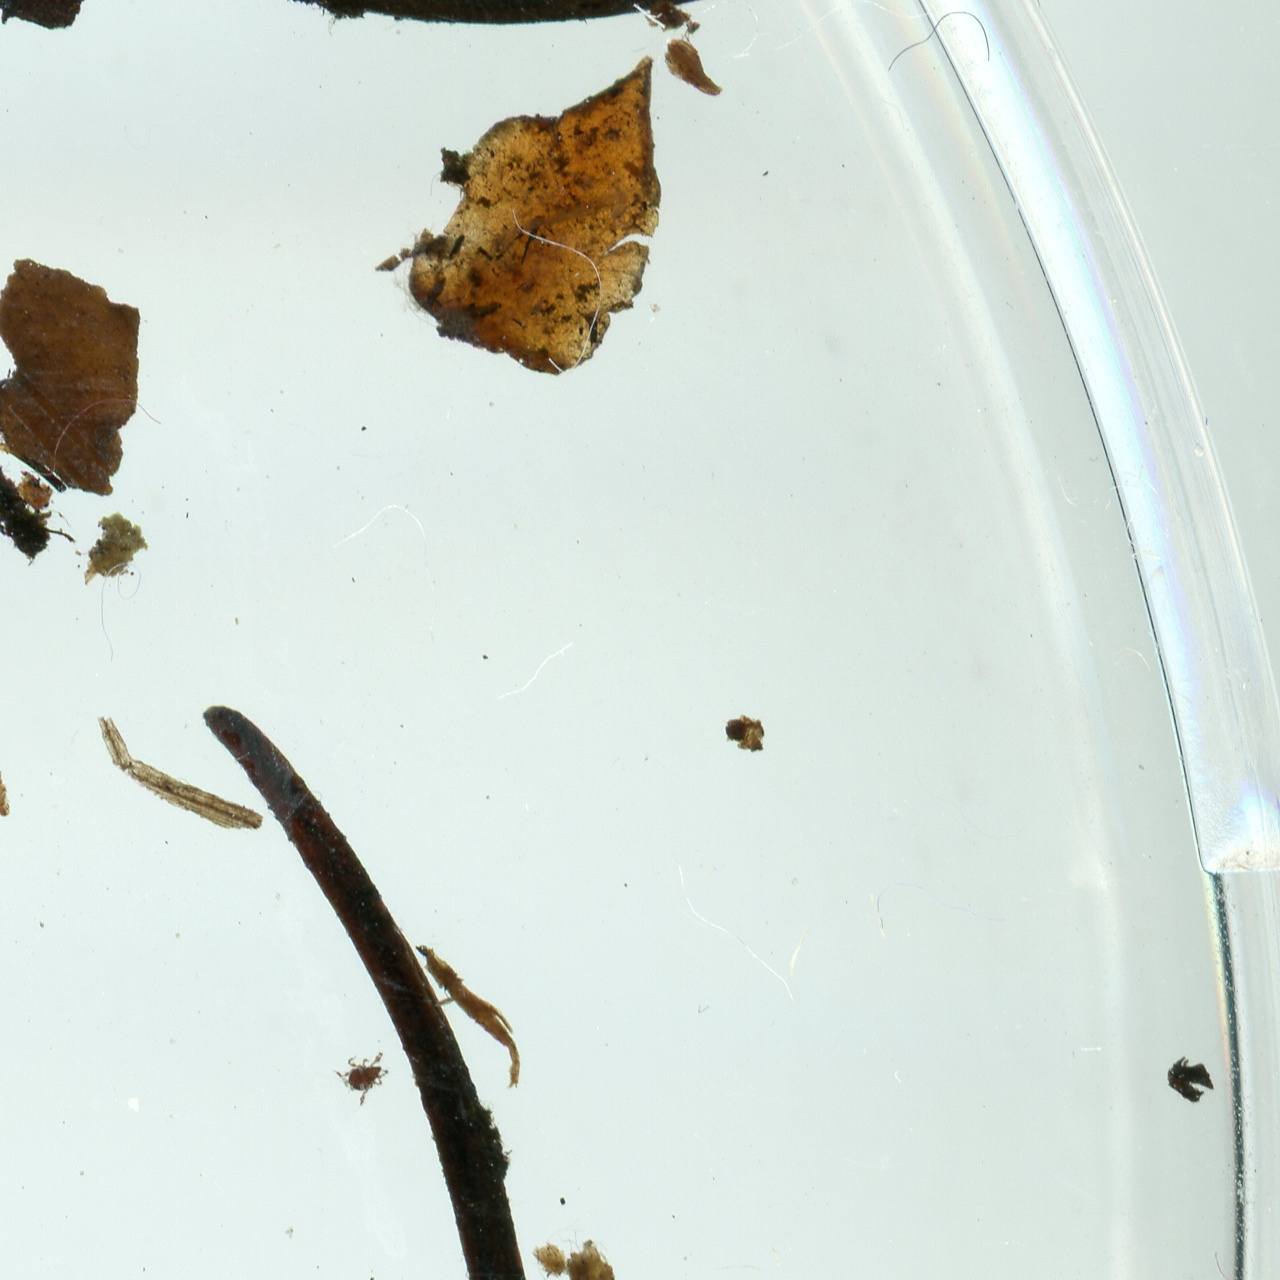arthropod: (327, 1035, 402, 1110)
